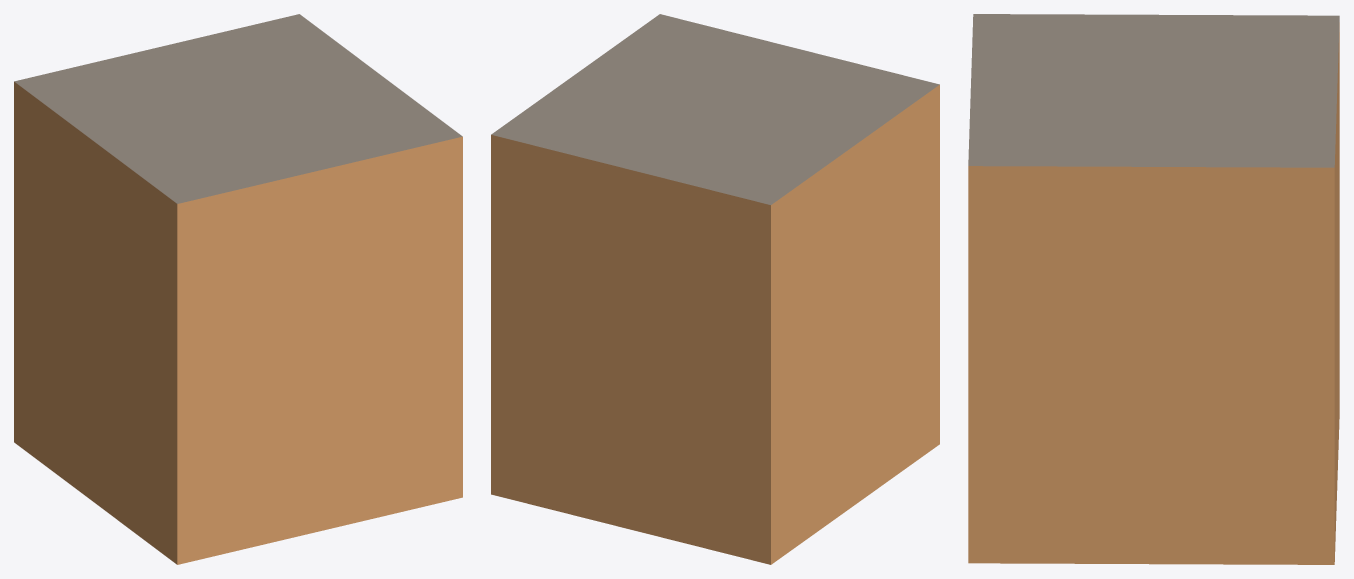
3 views of the same model, side by side, from view 1: azimuth 30°, elevation 25°; view 2: azimuth 150°, elevation 25°; view 3: azimuth 270°, elevation 25° (orthographic). The views are drawn at different scales.
Parts seen in each view (by area): view 1: element.001; view 2: element.001; view 3: element.001.
Part boxes in pixels (x1,y1,x2,y2): element.001: (14, 14, 462, 564); element.001: (491, 14, 939, 564); element.001: (968, 14, 1339, 564).
Bounding box in the file's own units: 16.25 × 19.57 × 16.59.
